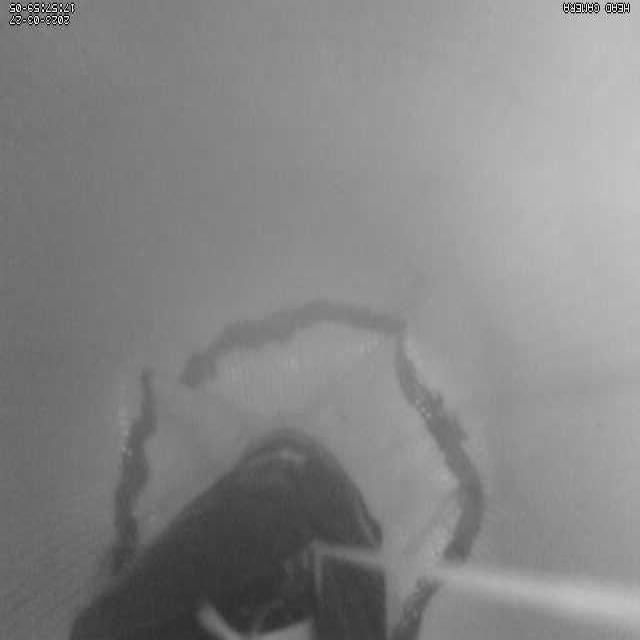red-circle: (114, 299, 487, 639)
